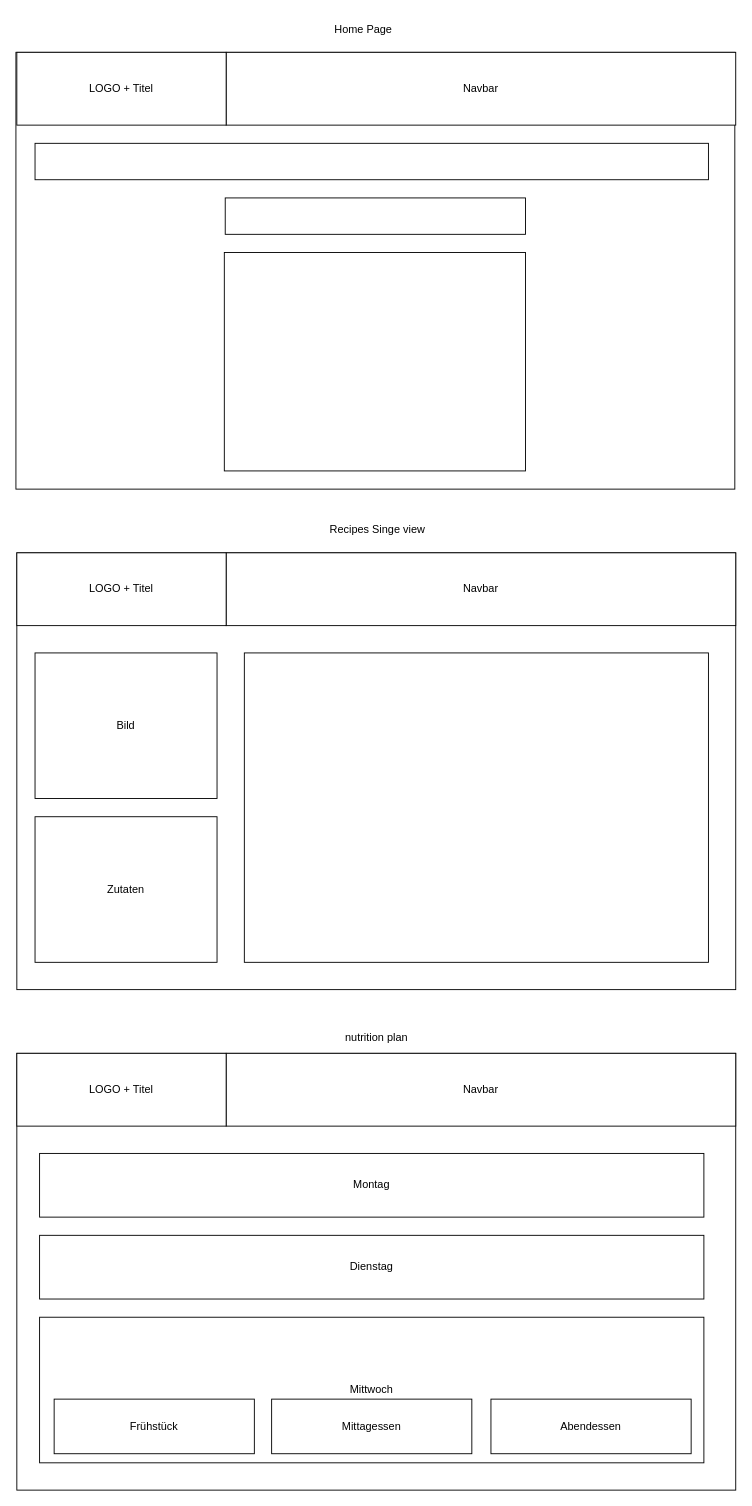
This 752x1506 diagram has some shape labels left out. The centre of each missing label's shape, as x and y in pixels:
"Beschreibung / Umsetzung" goes at point 475,807.
"Filters" goes at point 371,161.
"List of possible results" goes at point 374,361.
"Search Bar" goes at point 375,215.
